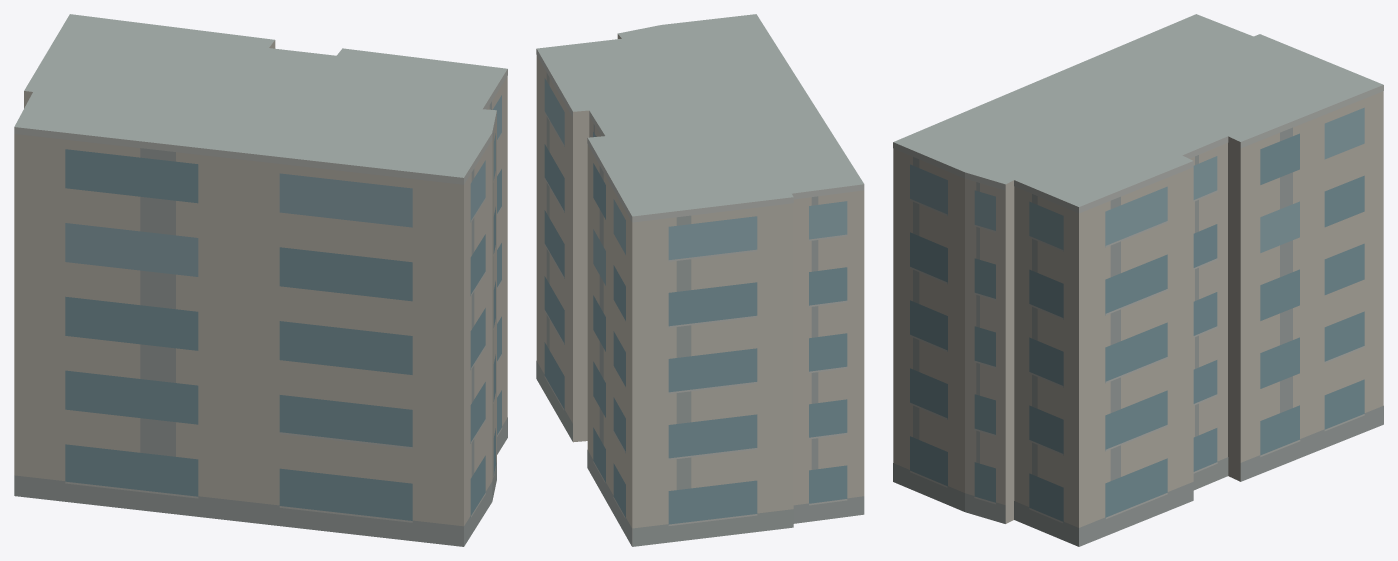
Rendered from survey-upis-33011531.glb.
3 views of the same model, side by side, from view 1: azimuth 30°, elevation 25°; view 2: azimuth 150°, elevation 25°; view 3: azimuth 270°, elevation 25° (orthographic). The views are drawn at different scales.
Visible parts, largest first — view 1: survey-upis-33011531.tmp; view 2: survey-upis-33011531.tmp; view 3: survey-upis-33011531.tmp.
Boxes of the visible parts, x1,y1,x2,y2 form: survey-upis-33011531.tmp: (14, 14, 507, 546); survey-upis-33011531.tmp: (536, 14, 864, 546); survey-upis-33011531.tmp: (893, 14, 1383, 546).
Size of the model in its own units: 16.1 by 13.2 by 17.28.
